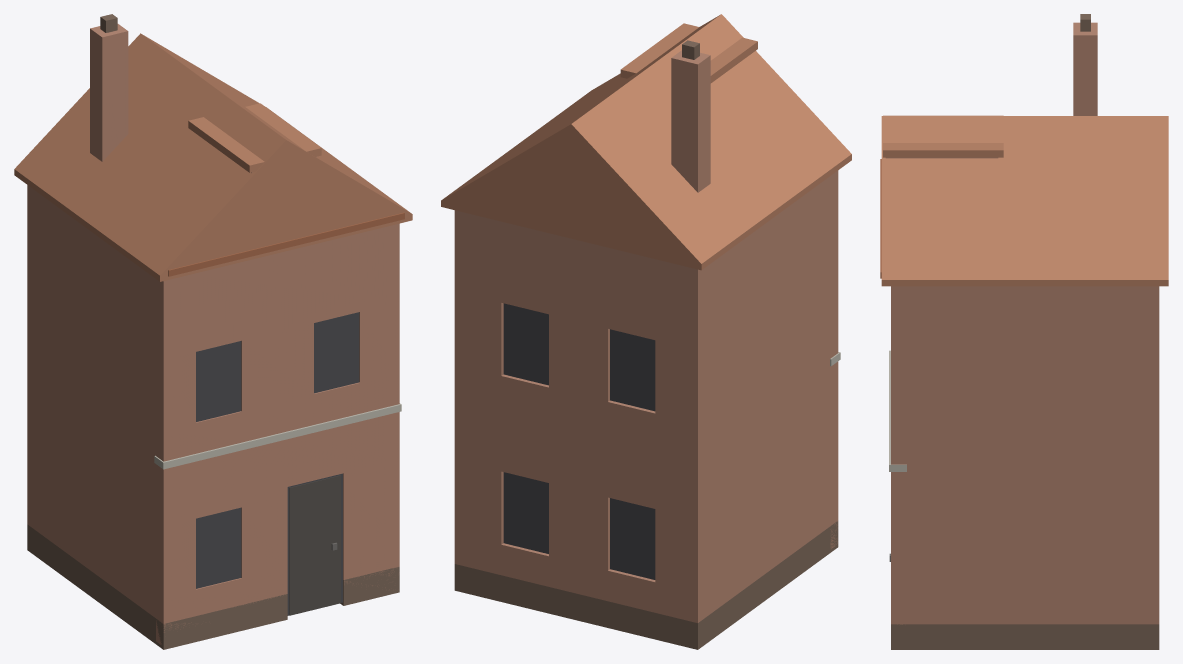
File: env_house_2storey_b.glb
The picture shows the model from 3 angles, left to right: view 1: azimuth 30°, elevation 25°; view 2: azimuth 150°, elevation 25°; view 3: azimuth 270°, elevation 25°; orthographic projection. The views are drawn at different scales.
Parts seen in each view (by area): view 1: env_house_2storey_b; view 2: env_house_2storey_b; view 3: env_house_2storey_b.
Boxes of the visible parts, x1,y1,x2,y2 form: env_house_2storey_b: (14, 14, 412, 649); env_house_2storey_b: (441, 14, 851, 649); env_house_2storey_b: (880, 14, 1168, 649).
Size of the model in its own units: 4.28 by 8.9 by 4.3.
